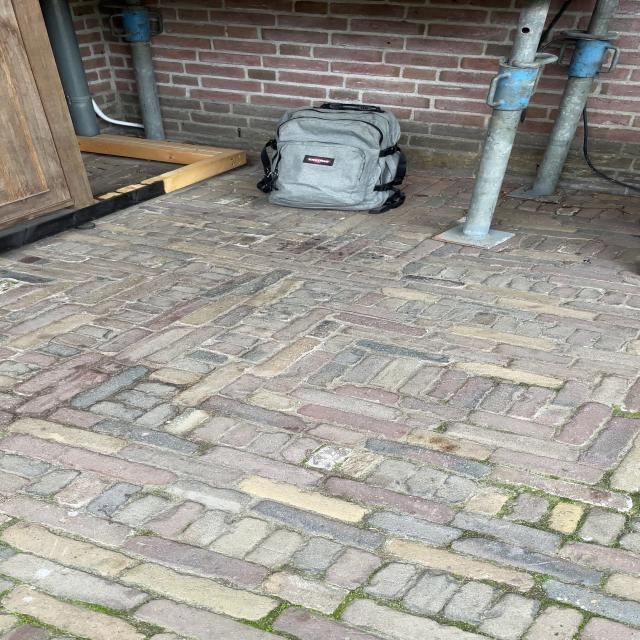backpack: (251, 98, 414, 215)
